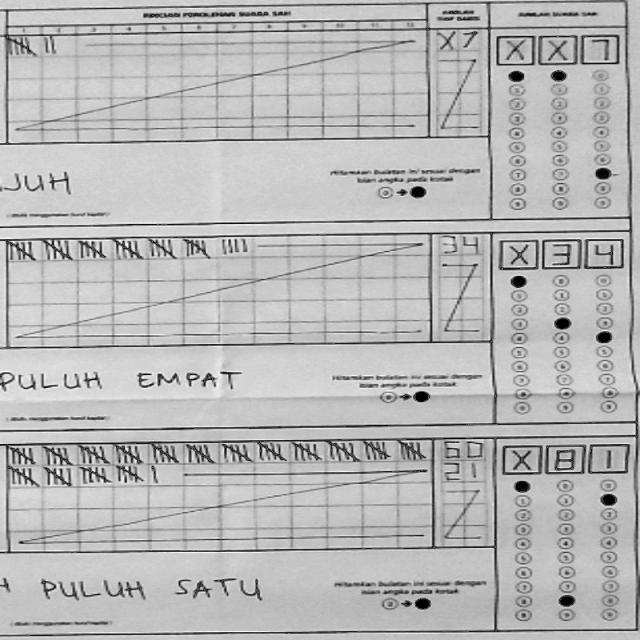Suara: (494, 234, 622, 276), (494, 436, 624, 474), (488, 34, 618, 64)
